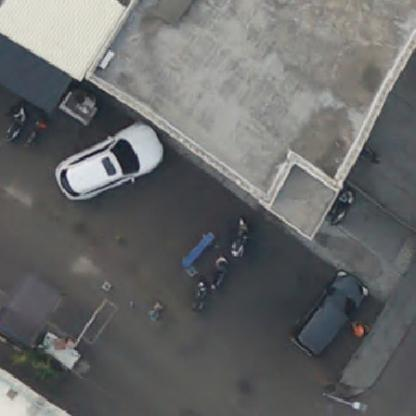car: (57, 124, 164, 200), (291, 270, 368, 353)
motorcycle: (20, 117, 55, 154), (325, 186, 355, 228), (205, 256, 236, 296), (229, 216, 249, 258), (190, 284, 214, 316), (2, 101, 21, 140)
